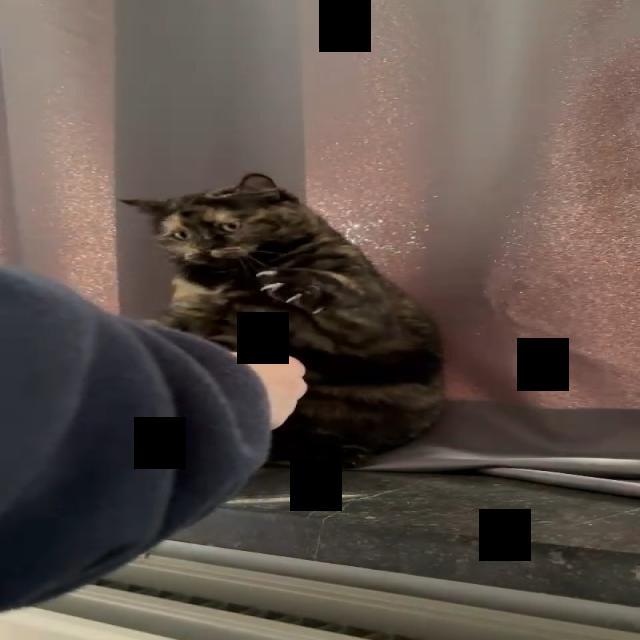authorized: (116, 172, 448, 470)
